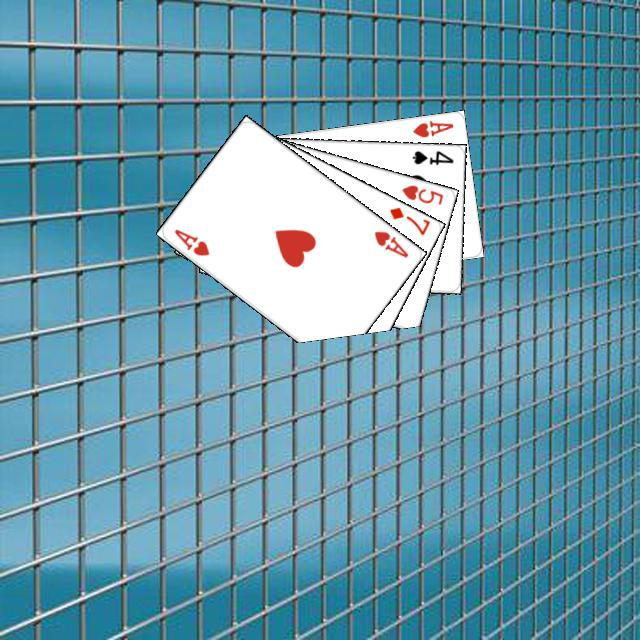4s: (407, 146, 455, 167)
5h: (396, 180, 445, 206)
7d: (384, 202, 431, 237)
Ah: (169, 224, 211, 258), (369, 226, 410, 259), (408, 116, 455, 139)
